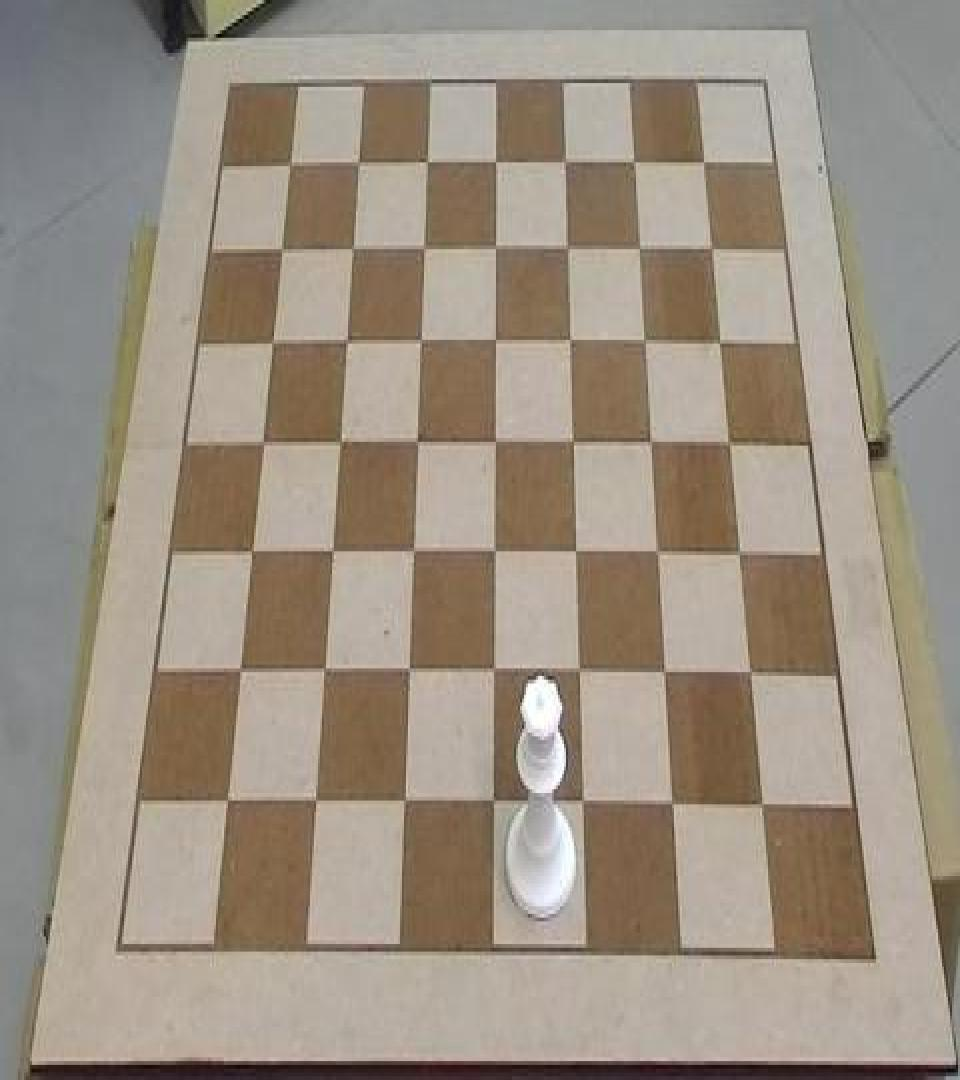xcorner: (695, 144, 715, 182), (626, 144, 646, 182), (556, 144, 576, 182), (487, 144, 507, 182), (417, 144, 437, 182), (348, 144, 368, 182), (279, 144, 299, 182), (703, 230, 723, 268), (631, 230, 651, 268), (559, 230, 579, 268), (486, 230, 506, 268), (414, 230, 434, 268), (343, 230, 363, 268), (271, 230, 291, 268), (712, 324, 732, 362), (637, 324, 657, 362), (561, 322, 581, 360), (486, 322, 506, 360), (411, 322, 431, 360), (337, 322, 357, 360), (262, 322, 282, 360), (721, 424, 741, 462), (643, 424, 663, 462), (564, 424, 584, 462), (486, 424, 506, 462), (408, 423, 428, 461), (330, 423, 350, 461), (252, 423, 272, 461), (732, 536, 752, 574), (649, 534, 669, 572), (567, 534, 587, 572), (486, 534, 506, 572), (404, 532, 424, 570), (323, 532, 343, 570), (242, 532, 262, 570), (743, 657, 763, 695), (657, 655, 677, 693), (571, 655, 591, 693), (485, 653, 505, 691), (400, 653, 420, 691), (315, 652, 335, 690), (230, 652, 250, 690), (755, 789, 775, 827), (665, 787, 685, 825), (575, 787, 595, 825), (485, 786, 505, 824), (396, 784, 416, 822), (307, 784, 327, 822), (218, 782, 238, 820)
